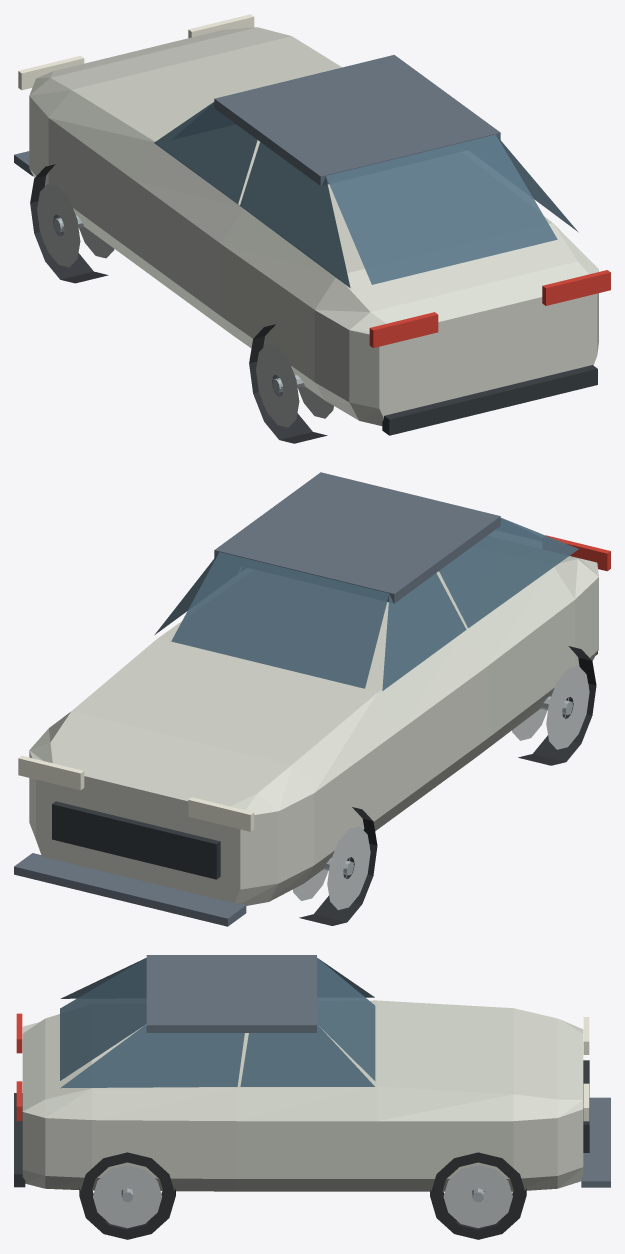
Rendered from alder_hatch_lod1.glb.
3 views of the same model, one above another, from view 1: azimuth 30°, elevation 25°; view 2: azimuth 150°, elevation 25°; view 3: azimuth 270°, elevation 25° (orthographic). The views are drawn at different scales.
Visible parts, largest first — view 1: Body_Shell, Rear_Windshield, Roof, Rear_Quarter_Glass_-1, Door_Glass_-1, Diffuser, Rim_RL, Rim_FL, Tire_RL, Tire_FL, Taillight_-1, Taillight_1 (+3 smaller); view 2: Body_Shell, Roof, Windshield, Rear_Quarter_Glass_-1, Grille, Splitter, Door_Glass_-1, Rim_RL, Rim_FL, Tire_RL, Tire_FL, Headlight_-1 (+3 smaller); view 3: Body_Shell, Roof, Rear_Quarter_Glass_1, Rear_Windshield, Door_Glass_1, Windshield, Rim_FR, Rim_RR, Tire_RR, Tire_FR, Splitter, Diffuser (+2 smaller).
Boxes of the visible parts, bbox=[...] form: Body_Shell: bbox=[29, 27, 598, 425]; Rear_Windshield: bbox=[326, 134, 557, 284]; Roof: bbox=[214, 55, 500, 185]; Rear_Quarter_Glass_-1: bbox=[240, 142, 350, 288]; Door_Glass_-1: bbox=[154, 102, 257, 203]; Diffuser: bbox=[382, 365, 597, 435]; Rim_RL: bbox=[256, 344, 333, 427]; Rim_FL: bbox=[37, 183, 114, 267]; Tire_RL: bbox=[249, 324, 327, 443]; Tire_FL: bbox=[30, 164, 108, 283]; Taillight_-1: bbox=[369, 312, 438, 347]; Taillight_1: bbox=[542, 270, 610, 305]; Body_Shell: bbox=[29, 556, 598, 905]; Roof: bbox=[214, 472, 500, 603]; Windshield: bbox=[171, 552, 389, 688]; Rear_Quarter_Glass_-1: bbox=[439, 518, 578, 628]; Grille: bbox=[52, 801, 220, 879]; Splitter: bbox=[14, 853, 246, 926]; Door_Glass_-1: bbox=[382, 573, 466, 690]; Rim_RL: bbox=[512, 666, 589, 749]; Rim_FL: bbox=[292, 826, 370, 909]; Tire_RL: bbox=[518, 646, 596, 765]; Tire_FL: bbox=[299, 807, 377, 925]; Headlight_-1: bbox=[188, 797, 254, 831]; Body_Shell: bbox=[22, 1000, 583, 1191]; Roof: bbox=[146, 955, 316, 1032]; Rear_Quarter_Glass_1: bbox=[60, 1024, 244, 1088]; Rear_Windshield: bbox=[60, 958, 146, 1080]; Door_Glass_1: bbox=[240, 1024, 374, 1086]; Windshield: bbox=[317, 958, 375, 1080]; Rim_FR: bbox=[443, 1165, 512, 1228]; Rim_RR: bbox=[93, 1165, 162, 1228]; Tire_RR: bbox=[79, 1152, 175, 1239]; Tire_FR: bbox=[430, 1152, 526, 1239]; Splitter: bbox=[581, 1097, 610, 1187]; Diffuser: bbox=[14, 1093, 25, 1187].
Size of the model in its own units: 1.91 by 1.5 by 4.21.
